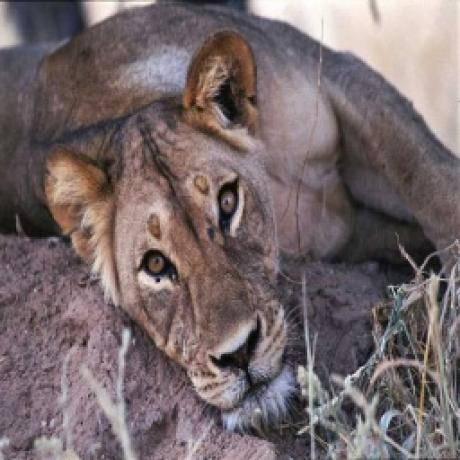Lion: (0, 0, 460, 434)
